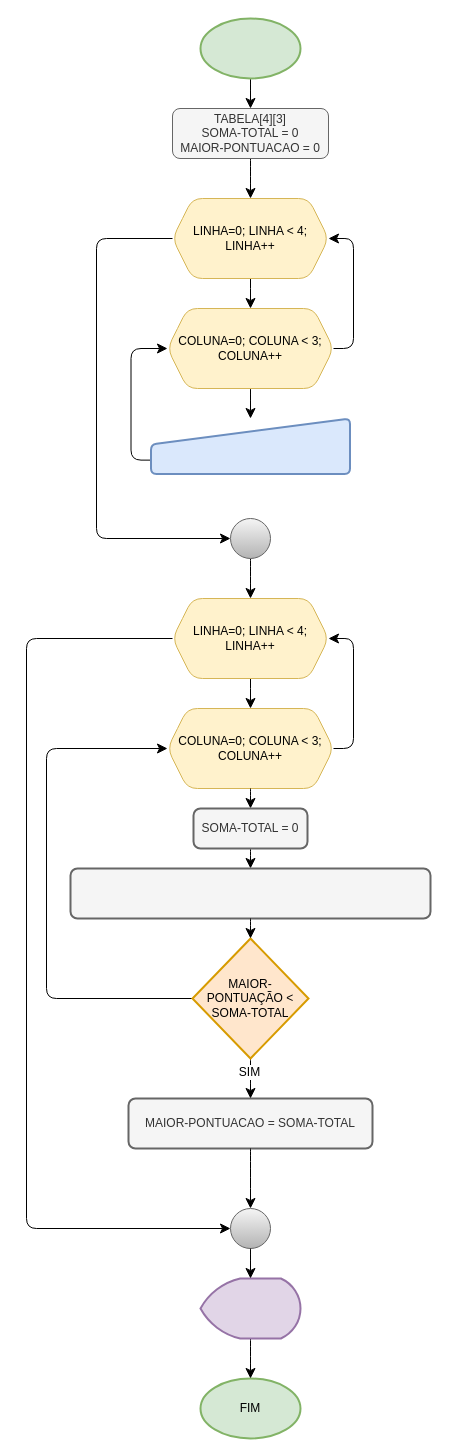
The diagram is 449 pixels wide and 1456 high, and some of its shapes have lost their labels. Each missing label, with the box of its shape:
INICIO: (199, 17, 301, 79)
MAIOR-PONTUAÇÃO: (199, 1277, 301, 1339)
SOMA-TOTAL = SOMA-TOTAL + TABELA[LINHA][COLUNA]: (69, 867, 431, 919)
TABELA[LINHA][COLUNA]: (150, 417, 350, 474)
